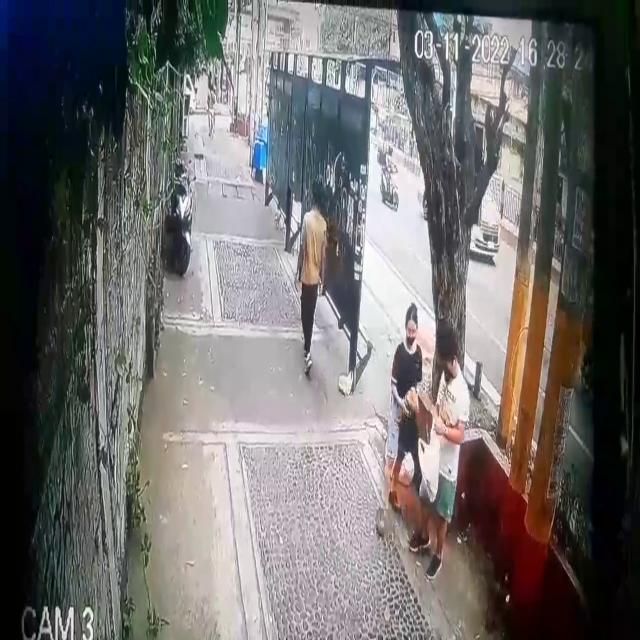garbage_dumping: (410, 419, 440, 513)
